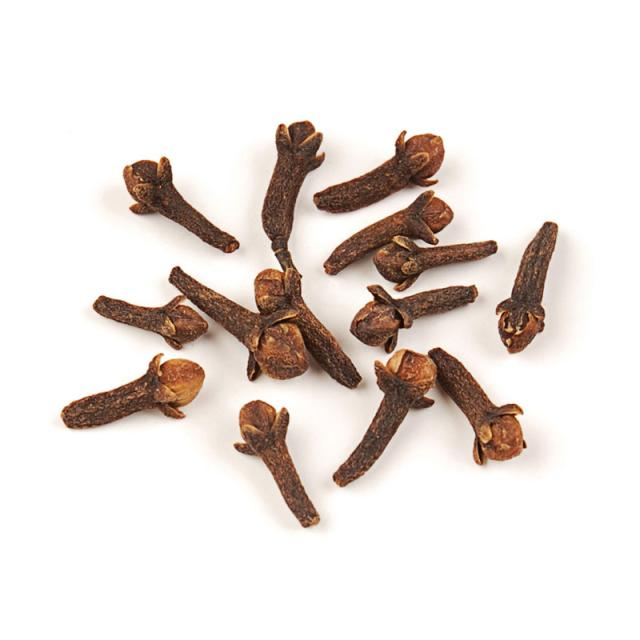clove: (169, 122, 361, 388), (335, 350, 435, 484), (235, 400, 319, 526), (62, 355, 204, 428), (370, 286, 476, 326)
